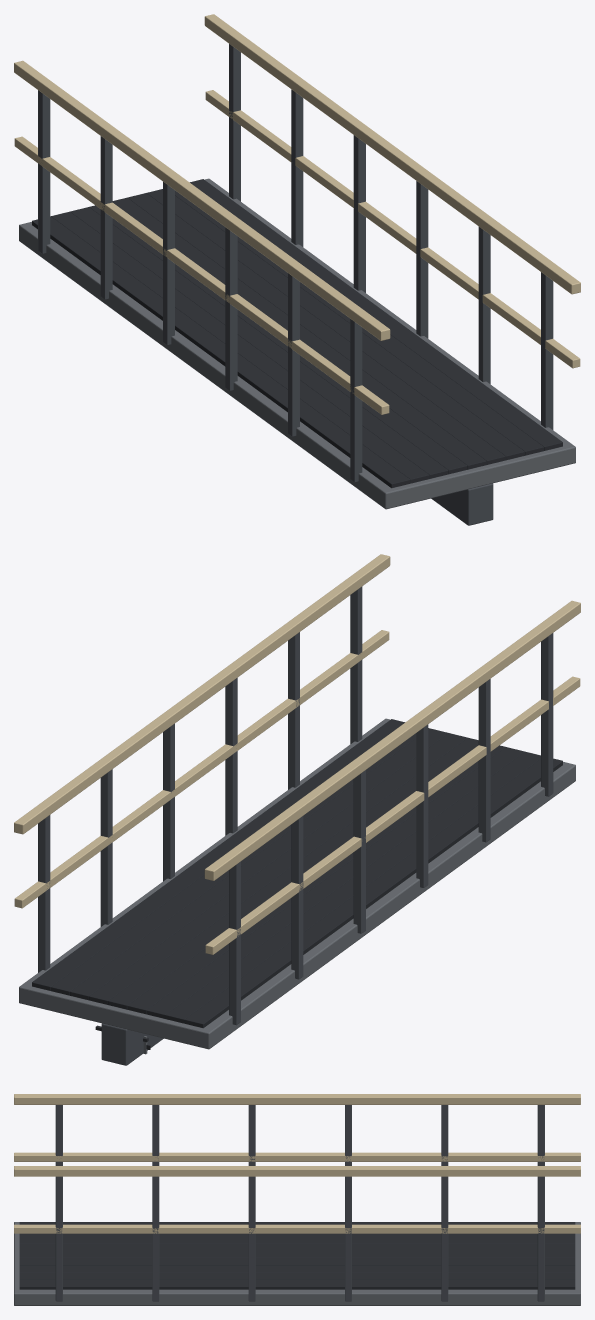
Rendered from env_catwalk.fbx.
3 renders of one model, top to bottom at view 1: azimuth 30°, elevation 25°; view 2: azimuth 150°, elevation 25°; view 3: azimuth 270°, elevation 25°, orthographic. The views are drawn at different scales.
Parts seen in each view (by area): view 1: SM_Env_Catwalk; view 2: SM_Env_Catwalk; view 3: SM_Env_Catwalk.
Part boxes in pixels (bbox=[...]): SM_Env_Catwalk: bbox=[14, 14, 580, 525]; SM_Env_Catwalk: bbox=[14, 554, 580, 1065]; SM_Env_Catwalk: bbox=[14, 1094, 580, 1305].
Size of what is drawn, in the model's own units: 126 by 130 by 400.
